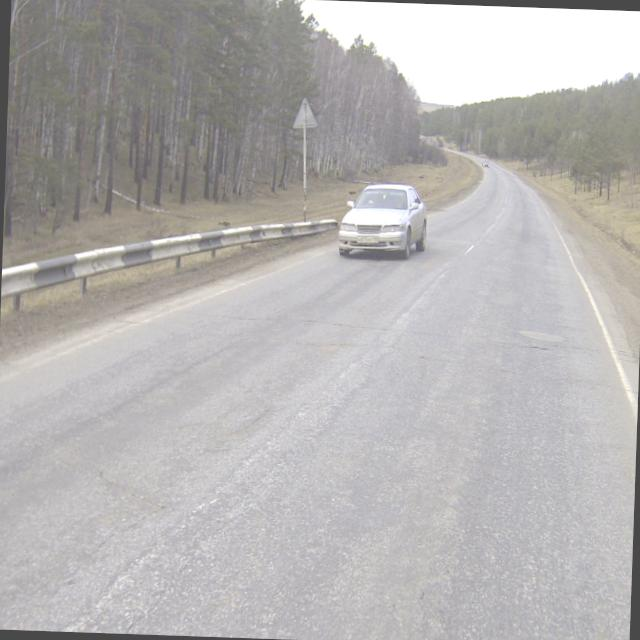road: (0, 161, 638, 640)
